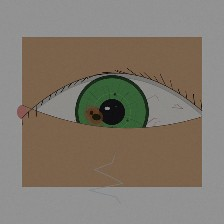foreign_body_visible: (75, 100, 118, 135)
